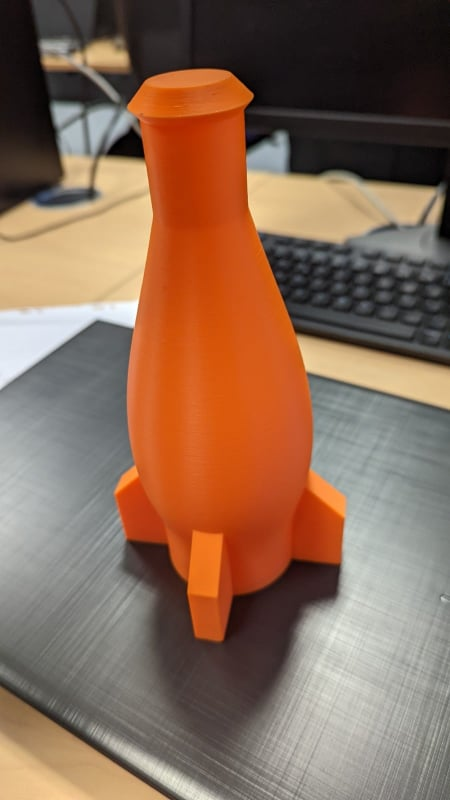bottle: (108, 63, 352, 649)
